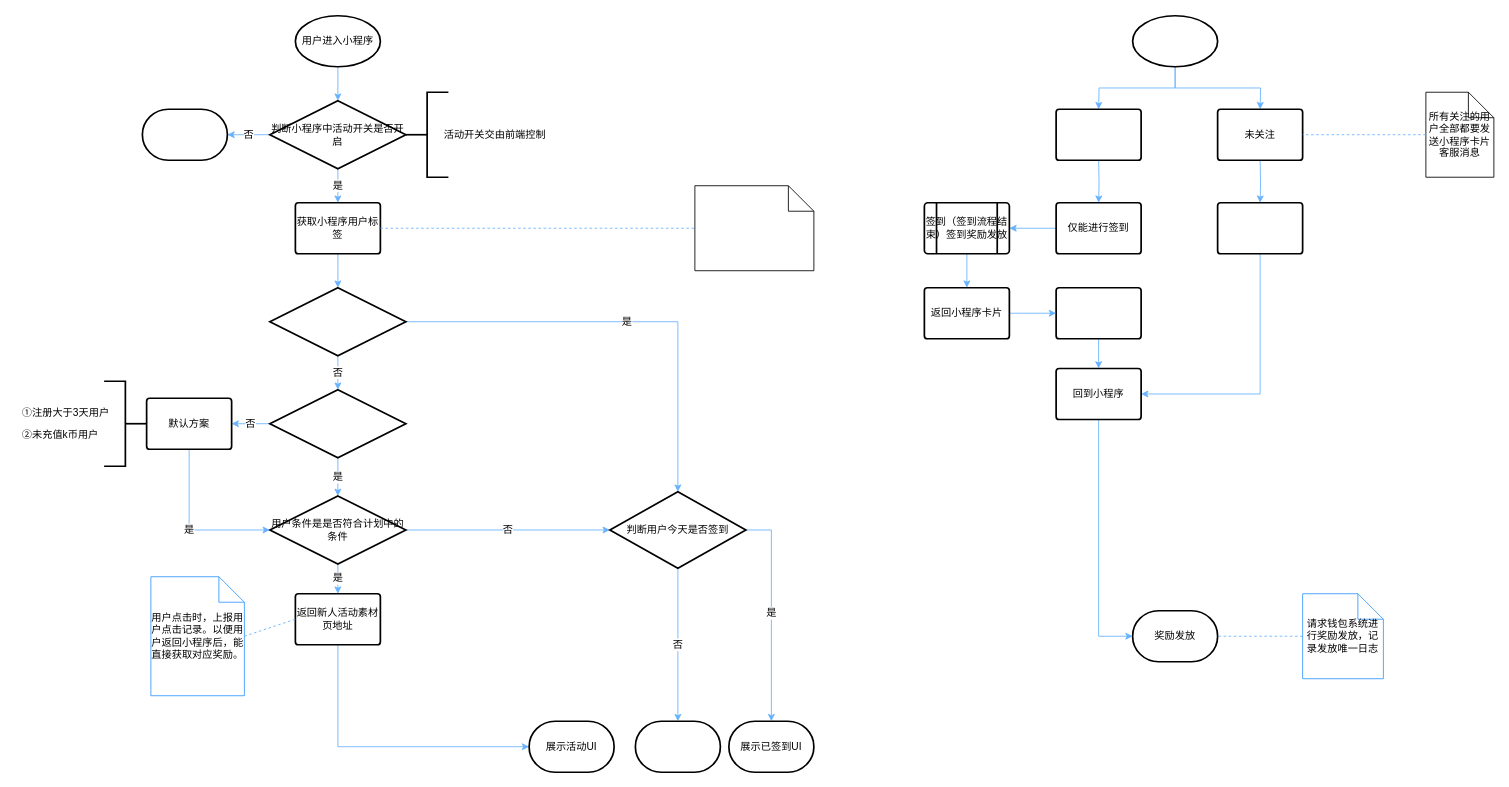
The diagram is 1509 pixels wide and 787 high, and some of its shapes have lost their labels. Each missing label, with the centre of its shape:
不请求获取素材地址接口: pixel 184 134
从签到后的小程序卡片可进行新人奖励的领取: pixel 1098 312
公众号聊天会话: pixel 1174 40
判断当前用户是否获取过新人奖励: pixel 337 321
展示签到UI: pixel 677 746
已关注: pixel 1098 134
获取当前标签是否有进行中的计划: pixel 337 423
返回‘点击这里返回小程序的’小程序卡片: pixel 1259 227
需要为小程序用户定义我方数据库中的标签。付费用户和免费用户: pixel 754 228
